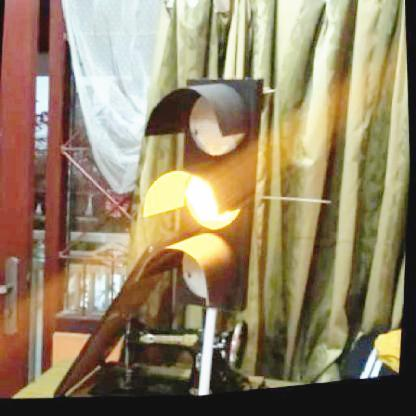Traffic Light -Yellow-: (127, 76, 271, 324)
